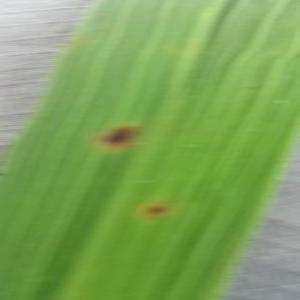0 BrownSpot: (88, 114, 149, 157), (140, 200, 174, 222)
